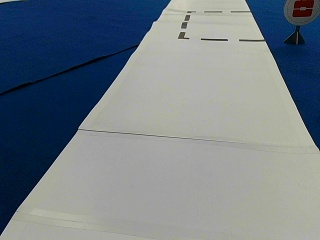company: (283, 0, 317, 24)
